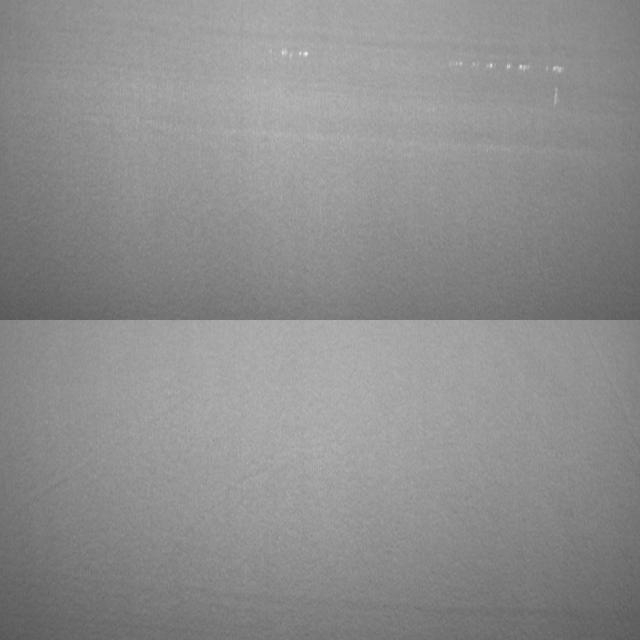Warp_Weft: (280, 46, 566, 81)
